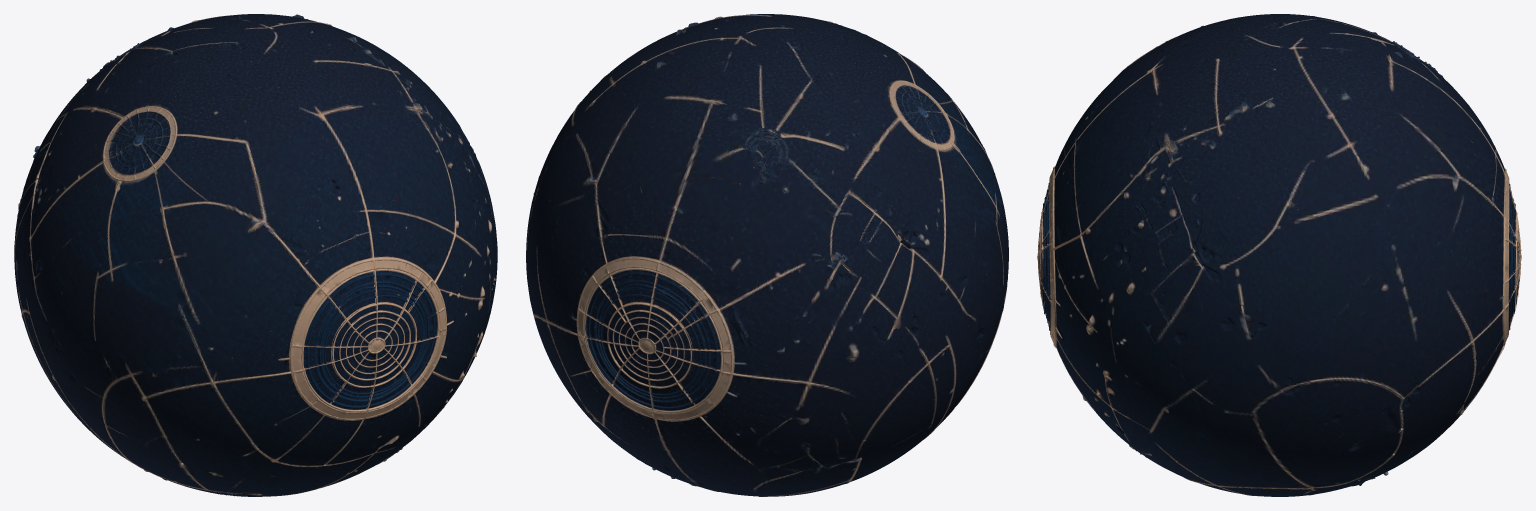
The model's file is project-asteroid-3.glb.
The picture shows the model from 3 angles, left to right: view 1: azimuth 30°, elevation 25°; view 2: azimuth 150°, elevation 25°; view 3: azimuth 270°, elevation 25°; orthographic projection.
Bounding box in the file's own units: 1.9 × 1.9 × 1.9.
1 material, 1 textured.
